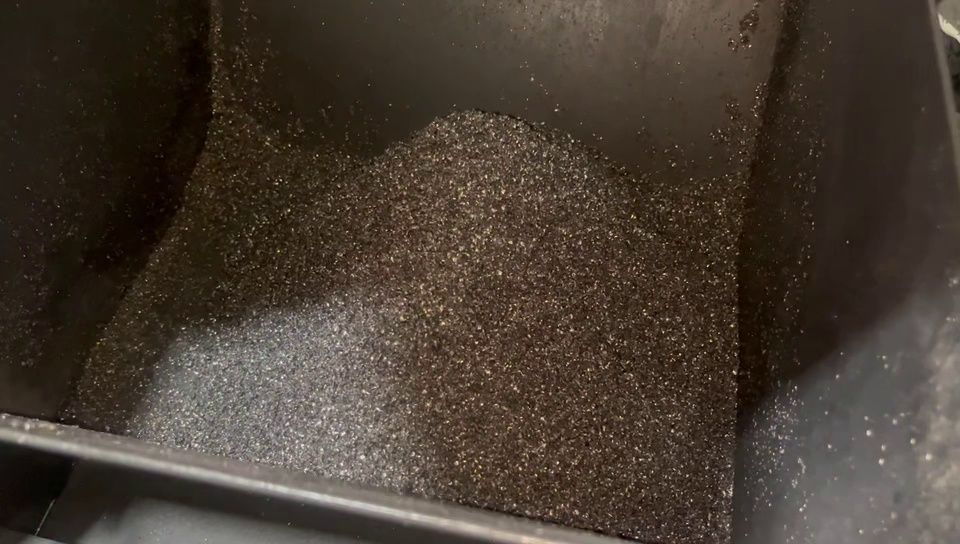iron_scrap: (147, 86, 733, 536)
